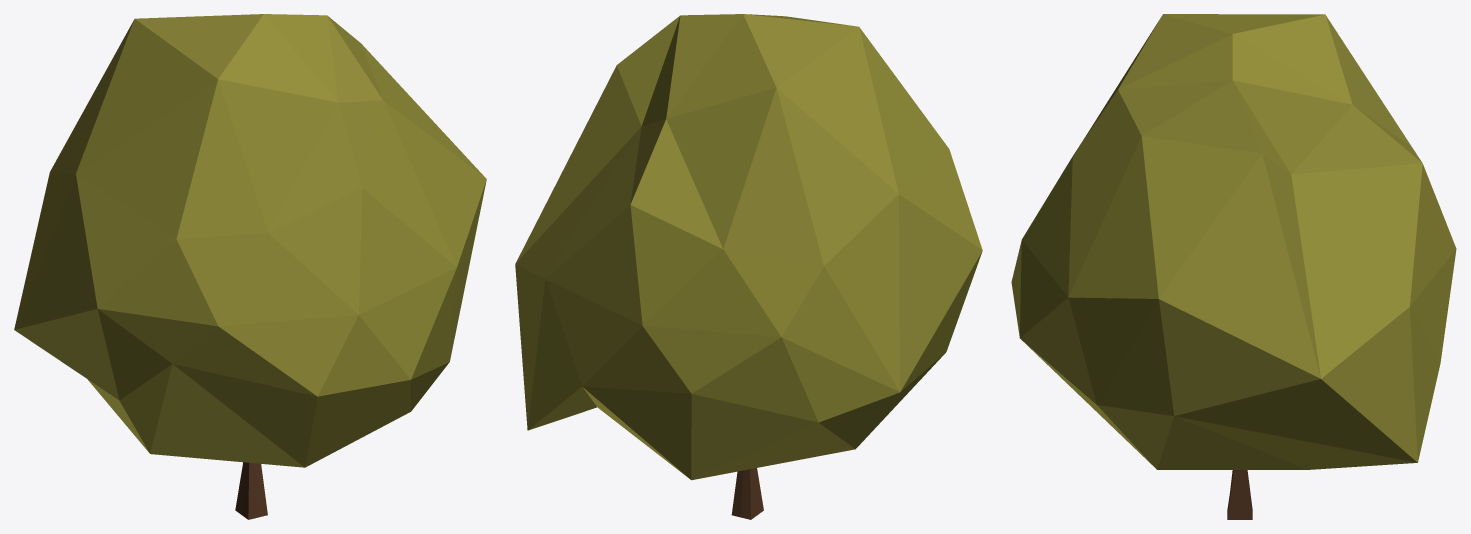
File: Tree_17_Yellow.fbx
The picture shows the model from 3 angles, left to right: view 1: azimuth 30°, elevation 25°; view 2: azimuth 150°, elevation 25°; view 3: azimuth 270°, elevation 25°; orthographic projection. The views are drawn at different scales.
Parts seen in each view (by area): view 1: Tree_17_Yellow_Part_1, Tree_17_Yellow_Part_2; view 2: Tree_17_Yellow_Part_1, Tree_17_Yellow_Part_2; view 3: Tree_17_Yellow_Part_1, Tree_17_Yellow_Part_2.
Part boxes in pixels (x1,y1,x2,y2): Tree_17_Yellow_Part_1: (14,14,486,467); Tree_17_Yellow_Part_2: (235,462,267,519); Tree_17_Yellow_Part_1: (515,14,982,480); Tree_17_Yellow_Part_2: (731,468,763,519); Tree_17_Yellow_Part_1: (1011,14,1456,469); Tree_17_Yellow_Part_2: (1227,470,1252,519).
Size of the model in its own units: 639 by 784 by 651.
